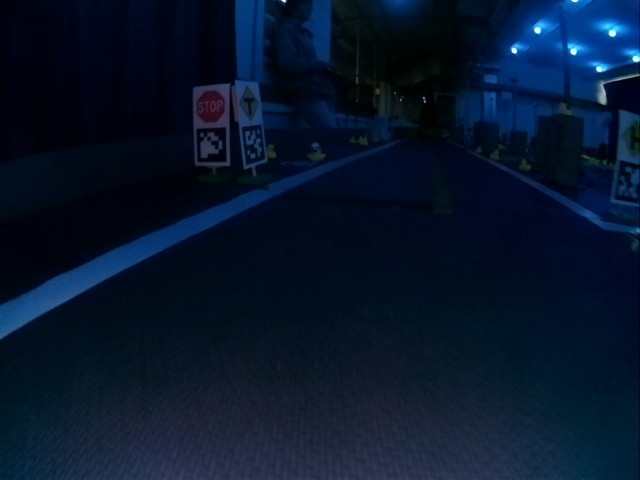Duckie: (306, 142, 326, 161), (518, 159, 532, 172)
Intersection sign: (240, 86, 259, 116)
QR code: (195, 128, 227, 162), (614, 162, 639, 203), (243, 125, 265, 165)
Stop sign: (196, 91, 226, 122)
